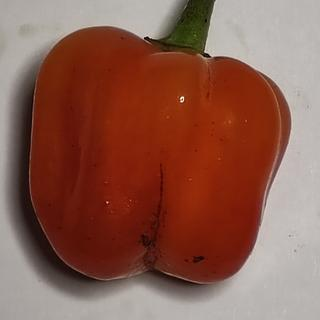Fly-bites: (189, 245, 211, 270)
striped: (148, 161, 168, 251)
